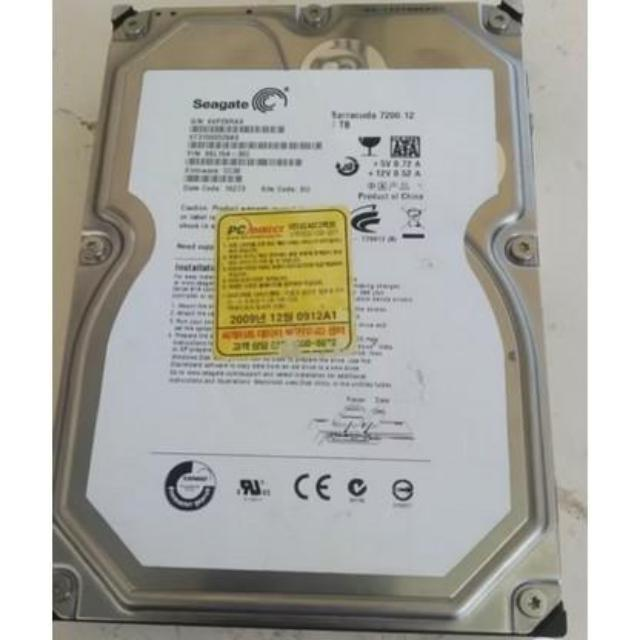DISK: (58, 0, 570, 640)
